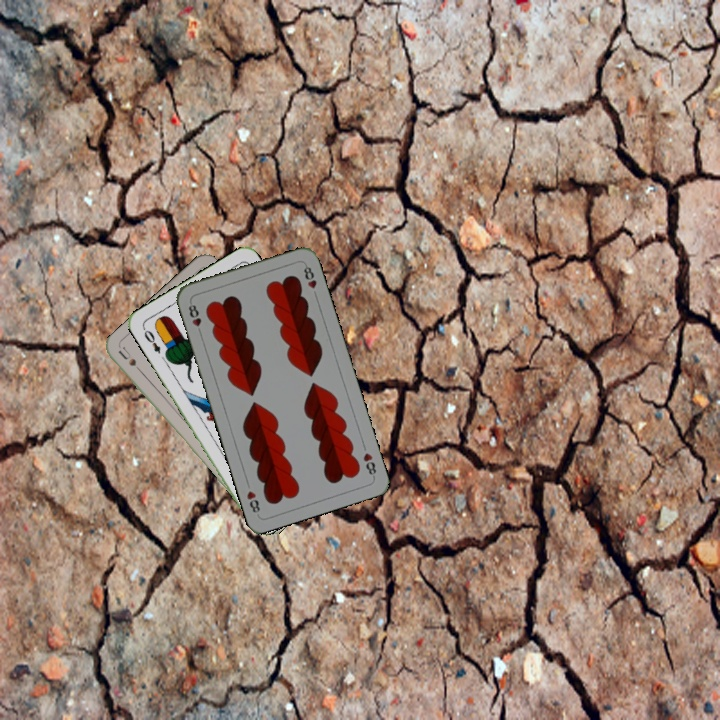EO: (139, 324, 163, 356)
H8: (184, 298, 205, 338), (359, 449, 379, 480)
SU: (115, 344, 148, 379)
